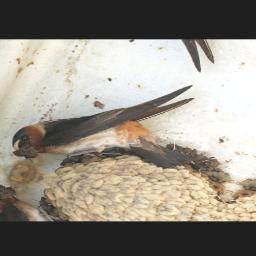Swallow: (4, 52, 204, 188)
